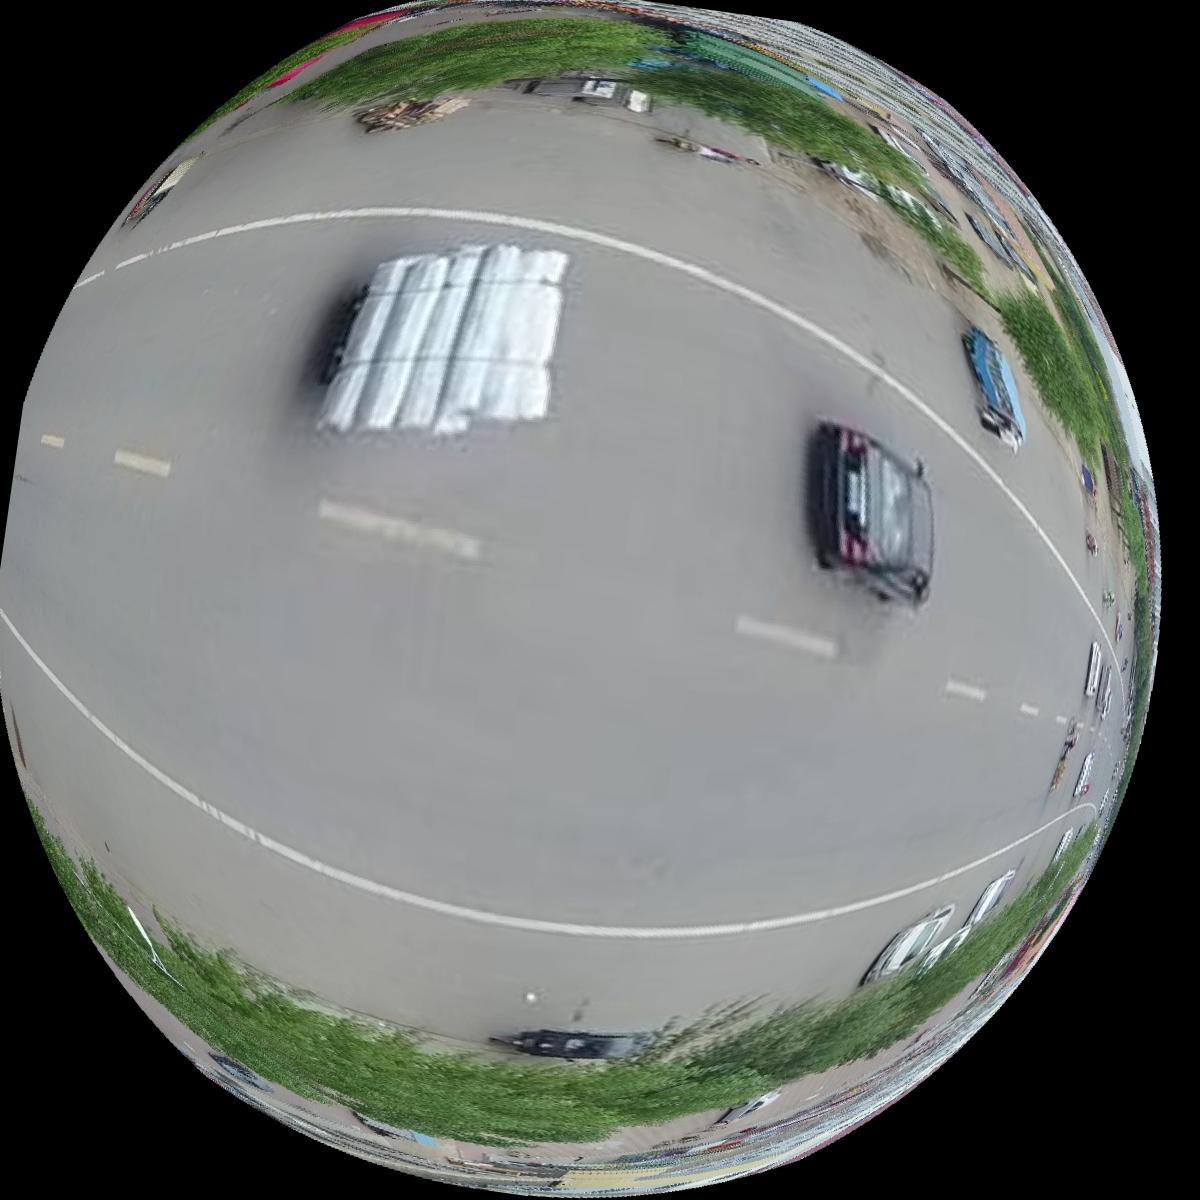cars: (812, 418, 935, 606), (865, 906, 953, 983), (919, 922, 972, 975), (968, 870, 1015, 928), (1096, 666, 1115, 721), (1084, 642, 1103, 696), (1073, 752, 1093, 798), (1052, 828, 1075, 864)
trees: (40, 826, 1095, 1147), (641, 28, 928, 191), (283, 8, 670, 108), (993, 286, 1112, 457), (1100, 441, 1159, 613)
